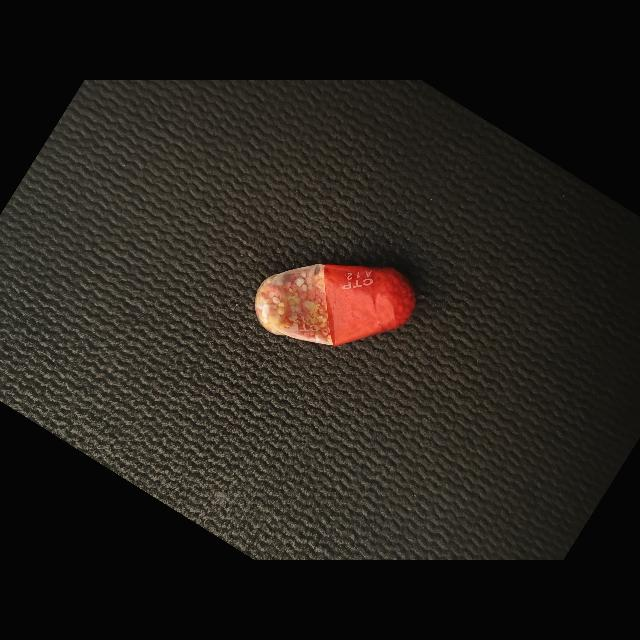Defective Capsule: (255, 264, 416, 346)
